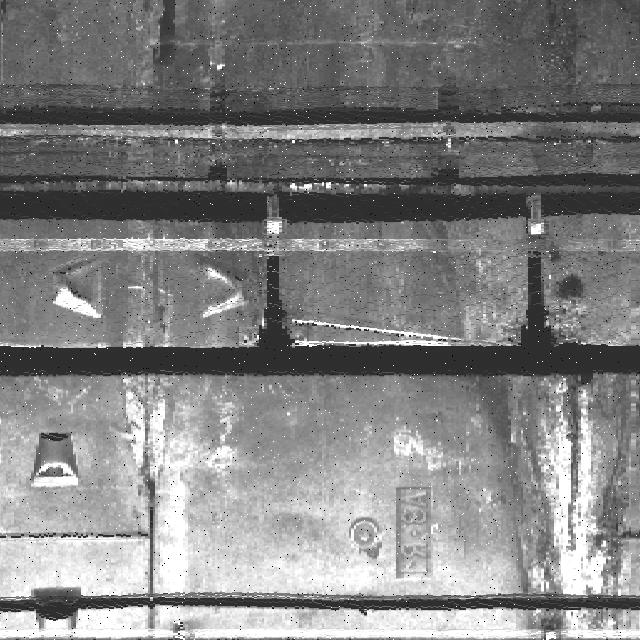leakage: (460, 375, 639, 636)
